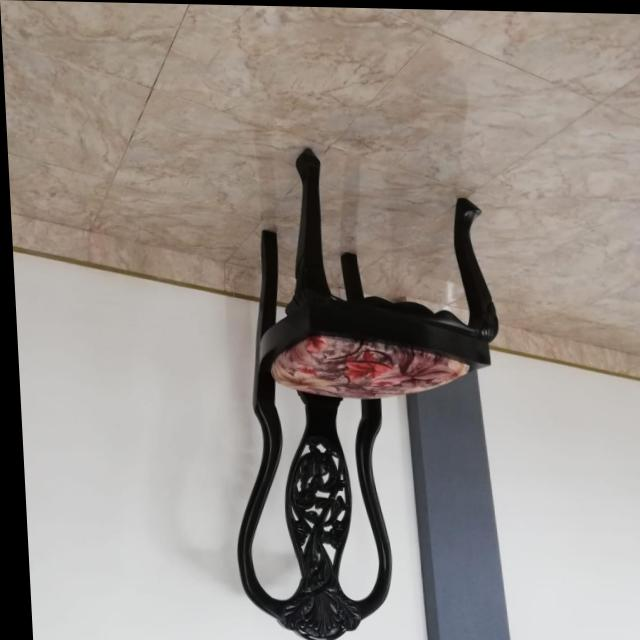Chair: (214, 144, 512, 640)
